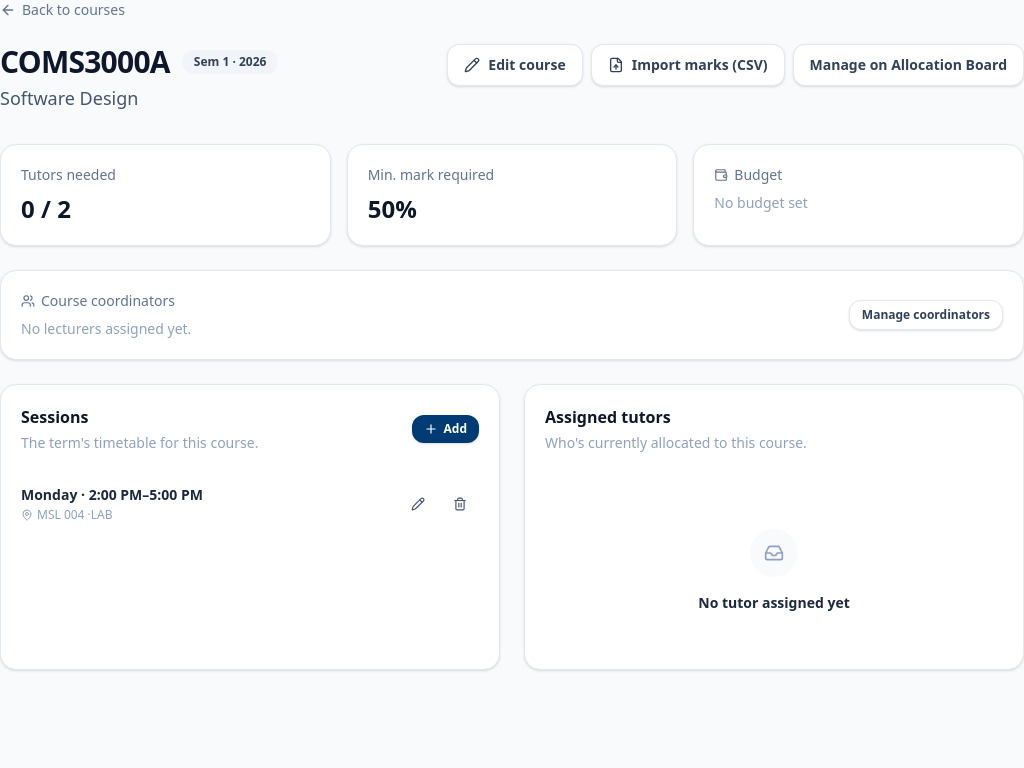
Test: Editing and removing sessions › tells the coordinator when the change moved tutors back to pending
Click the button named "Edit Monday lab". click: [418, 504]
box: [399,491,437,517]
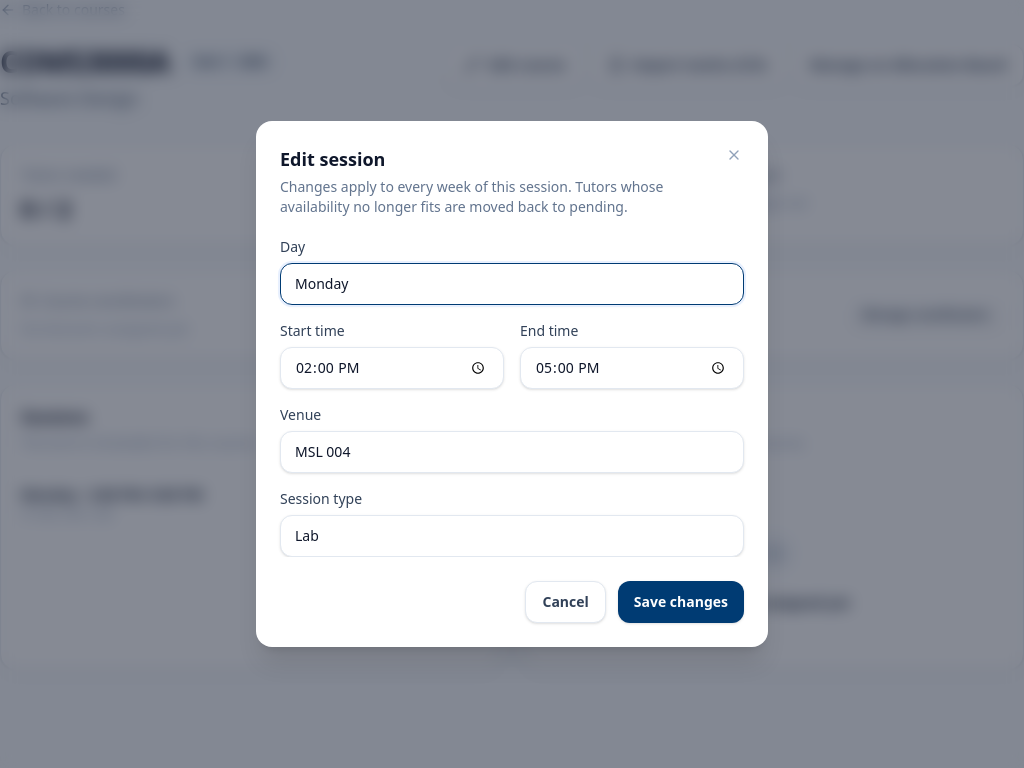
Click the button "Save changes". click: [681, 602]
box: [618,581,744,623]
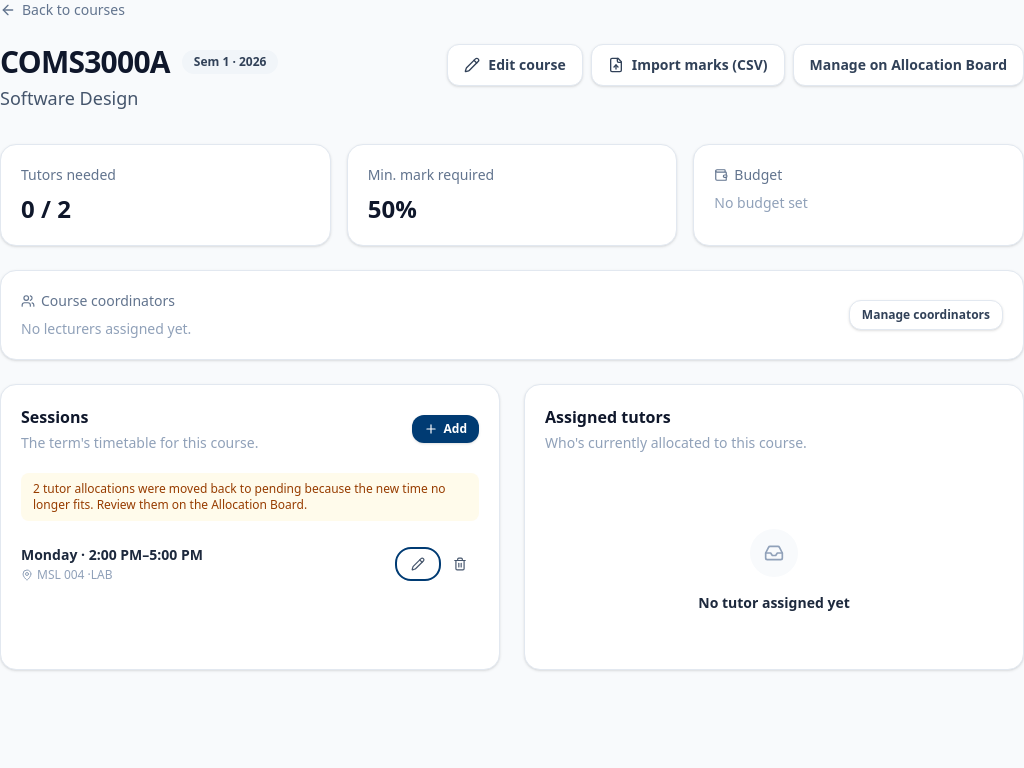
Check: the message shows "2 tutor allocations were moved back to pending", box [33,480,446,513]
